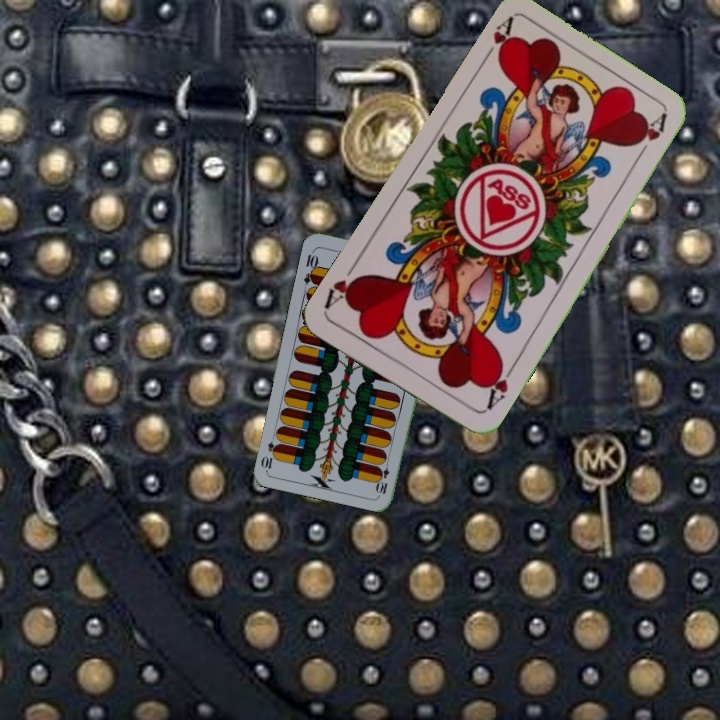E10: (300, 246, 321, 287), (374, 456, 392, 496)
HA: (477, 14, 518, 68), (479, 359, 517, 414)
